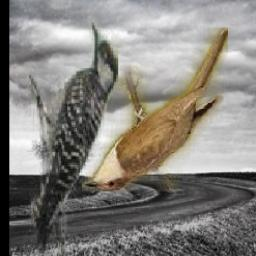Cuckoo: (83, 29, 229, 193)
Woodpecker: (29, 10, 118, 254)
